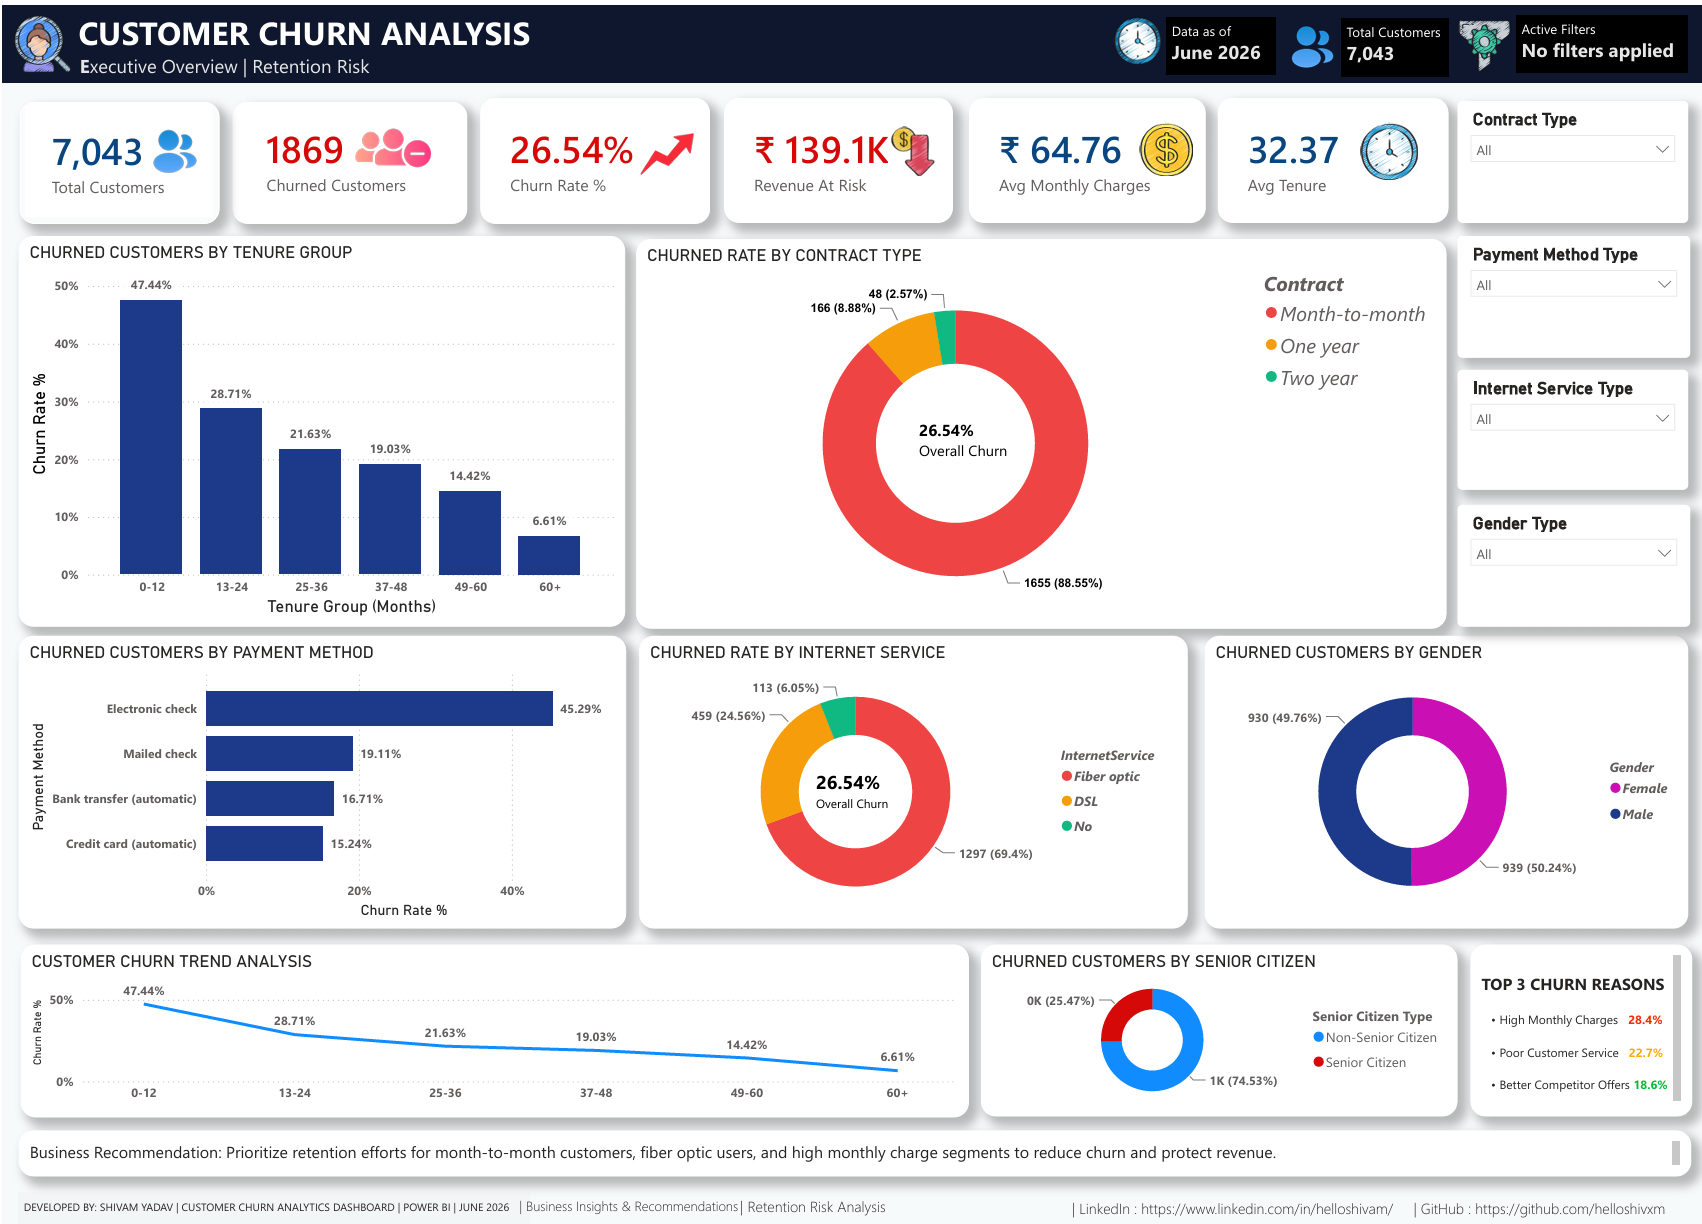

The page's visual inventory and layout, read from the dashboard file:
{"tool":"powerbi","page":{"name":"Executive Overview","canvas":[1704,1219],"ordinal":0},"visuals":[{"type":"cardVisual","title":"CHURNED CUSTOMERS","fields":{"Data":["Customer-Churn Cleaned csv.Churned Customers"]},"box":[229.9,97.2,235.5,121.5],"z":0},{"type":"textbox","box":[0,0,1704,78],"z":1000},{"type":"textbox","box":[1165,11.7,110,58.3],"z":2000},{"type":"textbox","box":[1340,13.3,108.3,58.3],"z":3000},{"type":"textbox","box":[1515.3,10.4,172,57.3],"z":4000},{"type":"cardVisual","fields":{"Data":["Customer-Churn Cleaned csv.Churn Rate %"]},"box":[478.4,93.4,229.9,125.2],"z":5000},{"type":"cardVisual","fields":{"Data":["Customer-Churn Cleaned csv.Total Customers"]},"box":[16.8,97.2,200,121.5],"z":6000},{"type":"cardVisual","fields":{"Data":["Customer-Churn Cleaned csv.Revenue At Risk"]},"box":[721.8,92.7,229.1,125.5],"z":7000},{"type":"cardVisual","fields":{"Data":["Customer-Churn Cleaned csv.Avg Monthly Charges"]},"box":[967.3,92.7,236.4,125.5],"z":8000},{"type":"cardVisual","fields":{"Data":["Customer-Churn Cleaned csv.Avg Tenure"]},"box":[1216.4,92.7,230.9,125.5],"z":9000},{"type":"lineClusteredColumnComboChart","title":"CHURNED CUSTOMERS BY TENURE GROUP","fields":{"Category":["Customer-Churn Cleaned csv.Tenure Group"],"Y":["Customer-Churn Cleaned csv.Churn Rate %"]},"box":[15.9,231.1,607.2,390.4],"z":10000},{"type":"donutChart","title":"   CHURNED RATE BY CONTRACT TYPE","fields":{"Category":["Customer-Churn Cleaned csv.Contract"],"Y":["Customer-Churn Cleaned csv.Churned Customers"]},"box":[633.5,233.6,811.1,390.6],"z":11000},{"type":"clusteredBarChart","title":"CHURNED CUSTOMERS BY PAYMENT METHOD","fields":{"Category":["Customer-Churn Cleaned csv.PaymentMethod"],"Y":["Customer-Churn Cleaned csv.Churn Rate %"]},"box":[15.6,630.8,608.2,293.7],"z":12000},{"type":"donutChart","title":"CHURNED RATE BY INTERNET SERVICE","fields":{"Category":["Customer-Churn Cleaned csv.InternetService"],"Y":["Customer-Churn Cleaned csv.Churned Customers"]},"box":[637.1,631.4,548.6,292.9],"z":13000},{"type":"donutChart","title":"CHURNED CUSTOMERS BY GENDER","fields":{"Category":["Customer-Churn Cleaned csv.Gender"],"Y":["CountNonNull(Customer-Churn Cleaned csv.CustomerID)"]},"box":[1202.9,631.4,484.3,292.9],"z":14000},{"type":"lineChart","title":"CUSTOMER CHURN TREND ANALYSIS","fields":{"Category":["Customer-Churn Cleaned csv.Tenure Group"],"Y":["Customer-Churn Cleaned csv.Churn Rate %"]},"box":[18.2,940,949.1,172.7],"z":15000},{"type":"slicer","title":"FILTERS","fields":{"Values":["Customer-Churn Cleaned csv.Contract"]},"box":[1456.4,96.4,230.9,121.8],"z":16000},{"type":"slicer","title":"FILTERS","fields":{"Values":["Customer-Churn Cleaned csv.PaymentMethod"]},"box":[1456.4,230.9,232.7,121.8],"z":17000},{"type":"slicer","title":"FILTERS","fields":{"Values":["Customer-Churn Cleaned csv.InternetService"]},"box":[1456.4,365.5,230.9,120],"z":18000},{"type":"slicer","title":"FILTERS","fields":{"Values":["Customer-Churn Cleaned csv.Gender"]},"box":[1456.4,500,232.7,121.8],"z":19000},{"type":"donutChart","title":"CHURNED CUSTOMERS BY SENIOR CITIZEN","fields":{"Category":["Customer-Churn Cleaned csv.Senior Citizen Type"],"Y":["Customer-Churn Cleaned csv.Churned Customers"]},"box":[979.3,940,476.6,171.9],"z":20000},{"type":"textbox","box":[1468.9,940,222.4,171.9],"z":21000},{"type":"textbox","box":[16,1126,1674,46],"z":22000},{"type":"image","box":[143.9,121.5,56.1,50.5],"z":23000},{"type":"image","box":[347.6,97.2,86,91.6],"z":24000},{"type":"image","box":[637.3,117.7,56.1,61.7],"z":25000},{"type":"image","box":[886,122,50,50],"z":26000},{"type":"image","box":[1125.1,117.7,78.5,54.2],"z":27000},{"type":"image","box":[1351.2,117.7,72.9,57.9],"z":28000},{"type":"textbox","box":[912,409.3,100.9,56.1],"z":29000},{"type":"textbox","box":[809.2,758.8,89.7,61.7],"z":30000},{"type":"textbox","box":[16,1188,512,34],"z":31000},{"type":"actionButton","title":"| Business Insights & Recommendations","box":[516.7,1193.3,231.7,25],"z":32000},{"type":"actionButton","title":"| Retention Risk Analysis","box":[738.3,1191.7,161.7,25],"z":33000},{"type":"image","box":[0,10,80,58],"z":34000},{"type":"image","box":[1448.3,15,70,51.7],"z":35000},{"type":"image","box":[1281.7,16.7,58.3,50],"z":36000},{"type":"image","box":[1106.7,11.7,58.3,48.3],"z":37000},{"type":"actionButton","title":"| LinkedIn : https://www.linkedin.com/in/helloshivam/","box":[1070,1194,324,26],"z":37001},{"type":"actionButton","title":"| GitHub : https://github.com/helloshivxm","box":[1412,1194,274,26],"z":37002}]}

Visuals, with their boxes in screenshot pixels (x1, y1, x2, y2), scaled from the page's 1704x1219 canvas onto the 1702x1224 screenshot:
"CHURNED CUSTOMERS" cardVisual: detection(230, 98, 465, 220)
textbox: detection(0, 0, 1701, 78)
textbox: detection(1164, 12, 1274, 70)
textbox: detection(1338, 13, 1447, 72)
textbox: detection(1514, 10, 1685, 68)
cardVisual - Customer-Churn Cleaned csv.Churn Rate %: detection(478, 94, 707, 219)
cardVisual - Customer-Churn Cleaned csv.Total Customers: detection(17, 98, 217, 220)
cardVisual - Customer-Churn Cleaned csv.Revenue At Risk: detection(721, 93, 950, 219)
cardVisual - Customer-Churn Cleaned csv.Avg Monthly Charges: detection(966, 93, 1202, 219)
cardVisual - Customer-Churn Cleaned csv.Avg Tenure: detection(1215, 93, 1446, 219)
"CHURNED CUSTOMERS BY TENURE GROUP" lineClusteredColumnComboChart: detection(16, 232, 622, 624)
"   CHURNED RATE BY CONTRACT TYPE" donutChart: detection(633, 235, 1443, 627)
"CHURNED CUSTOMERS BY PAYMENT METHOD" clusteredBarChart: detection(16, 633, 623, 928)
"CHURNED RATE BY INTERNET SERVICE" donutChart: detection(636, 634, 1184, 928)
"CHURNED CUSTOMERS BY GENDER" donutChart: detection(1201, 634, 1685, 928)
"CUSTOMER CHURN TREND ANALYSIS" lineChart: detection(18, 944, 966, 1117)
"FILTERS" slicer: detection(1455, 97, 1685, 219)
"FILTERS" slicer: detection(1455, 232, 1687, 354)
"FILTERS" slicer: detection(1455, 367, 1685, 487)
"FILTERS" slicer: detection(1455, 502, 1687, 624)
"CHURNED CUSTOMERS BY SENIOR CITIZEN" donutChart: detection(978, 944, 1454, 1116)
textbox: detection(1467, 944, 1689, 1116)
textbox: detection(16, 1131, 1688, 1177)
image: detection(144, 122, 200, 173)
image: detection(347, 98, 433, 190)
image: detection(637, 118, 693, 180)
image: detection(885, 123, 935, 173)
image: detection(1124, 118, 1202, 173)
image: detection(1350, 118, 1422, 176)
textbox: detection(911, 411, 1012, 467)
textbox: detection(808, 762, 898, 824)
textbox: detection(16, 1193, 527, 1223)
"| Business Insights & Recommendations" actionButton: detection(516, 1198, 748, 1223)
"| Retention Risk Analysis" actionButton: detection(737, 1197, 899, 1222)
image: detection(0, 10, 80, 68)
image: detection(1447, 15, 1517, 67)
image: detection(1280, 17, 1338, 67)
image: detection(1105, 12, 1164, 60)
"| LinkedIn : https://www.linkedin.com/in/helloshivam/" actionButton: detection(1069, 1199, 1392, 1223)
"| GitHub : https://github.com/helloshivxm" actionButton: detection(1410, 1199, 1684, 1223)
